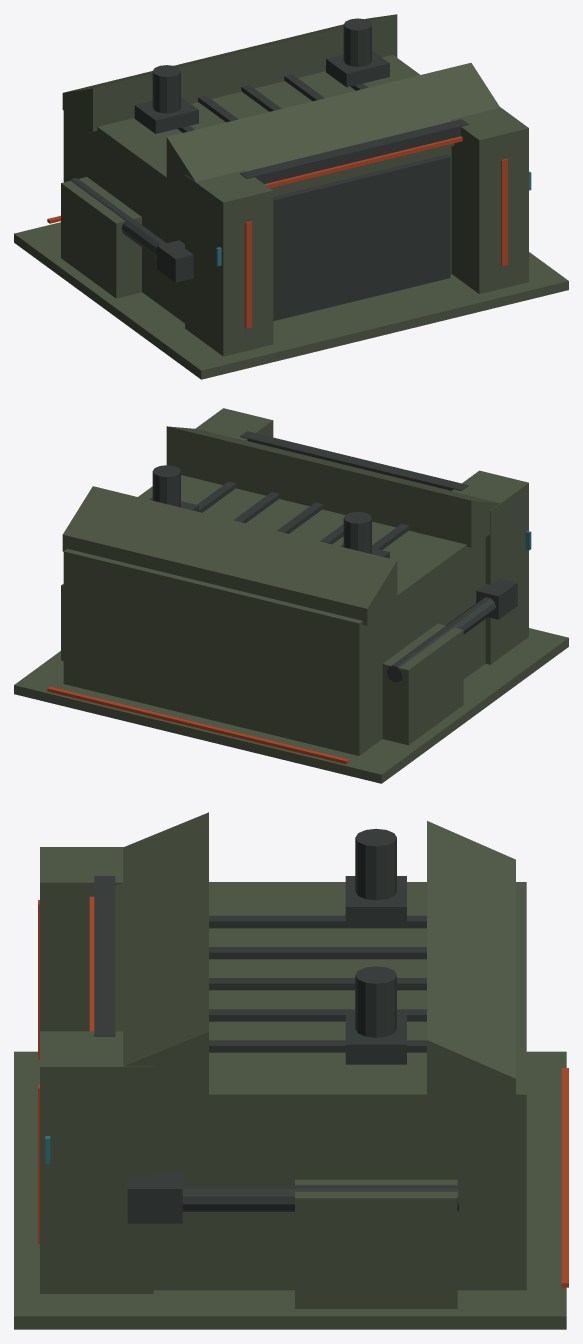
Rendered from Bastion_WarFactory_Base.obj.
The picture shows the model from 3 angles, top to bottom: view 1: azimuth 30°, elevation 25°; view 2: azimuth 150°, elevation 25°; view 3: azimuth 270°, elevation 25°; orthographic projection. The views are drawn at different scales.
Visible parts, largest first — view 1: Bastion_WarFactory_Base; view 2: Bastion_WarFactory_Base; view 3: Bastion_WarFactory_Base.
Part boxes in pixels (x1,y1,x2,y2): Bastion_WarFactory_Base: (14, 14, 568, 379); Bastion_WarFactory_Base: (14, 408, 568, 783); Bastion_WarFactory_Base: (14, 812, 568, 1329).
Bounding box in the file's own units: 10.2 × 5.23 × 9.04.
1 material, 1 textured.
